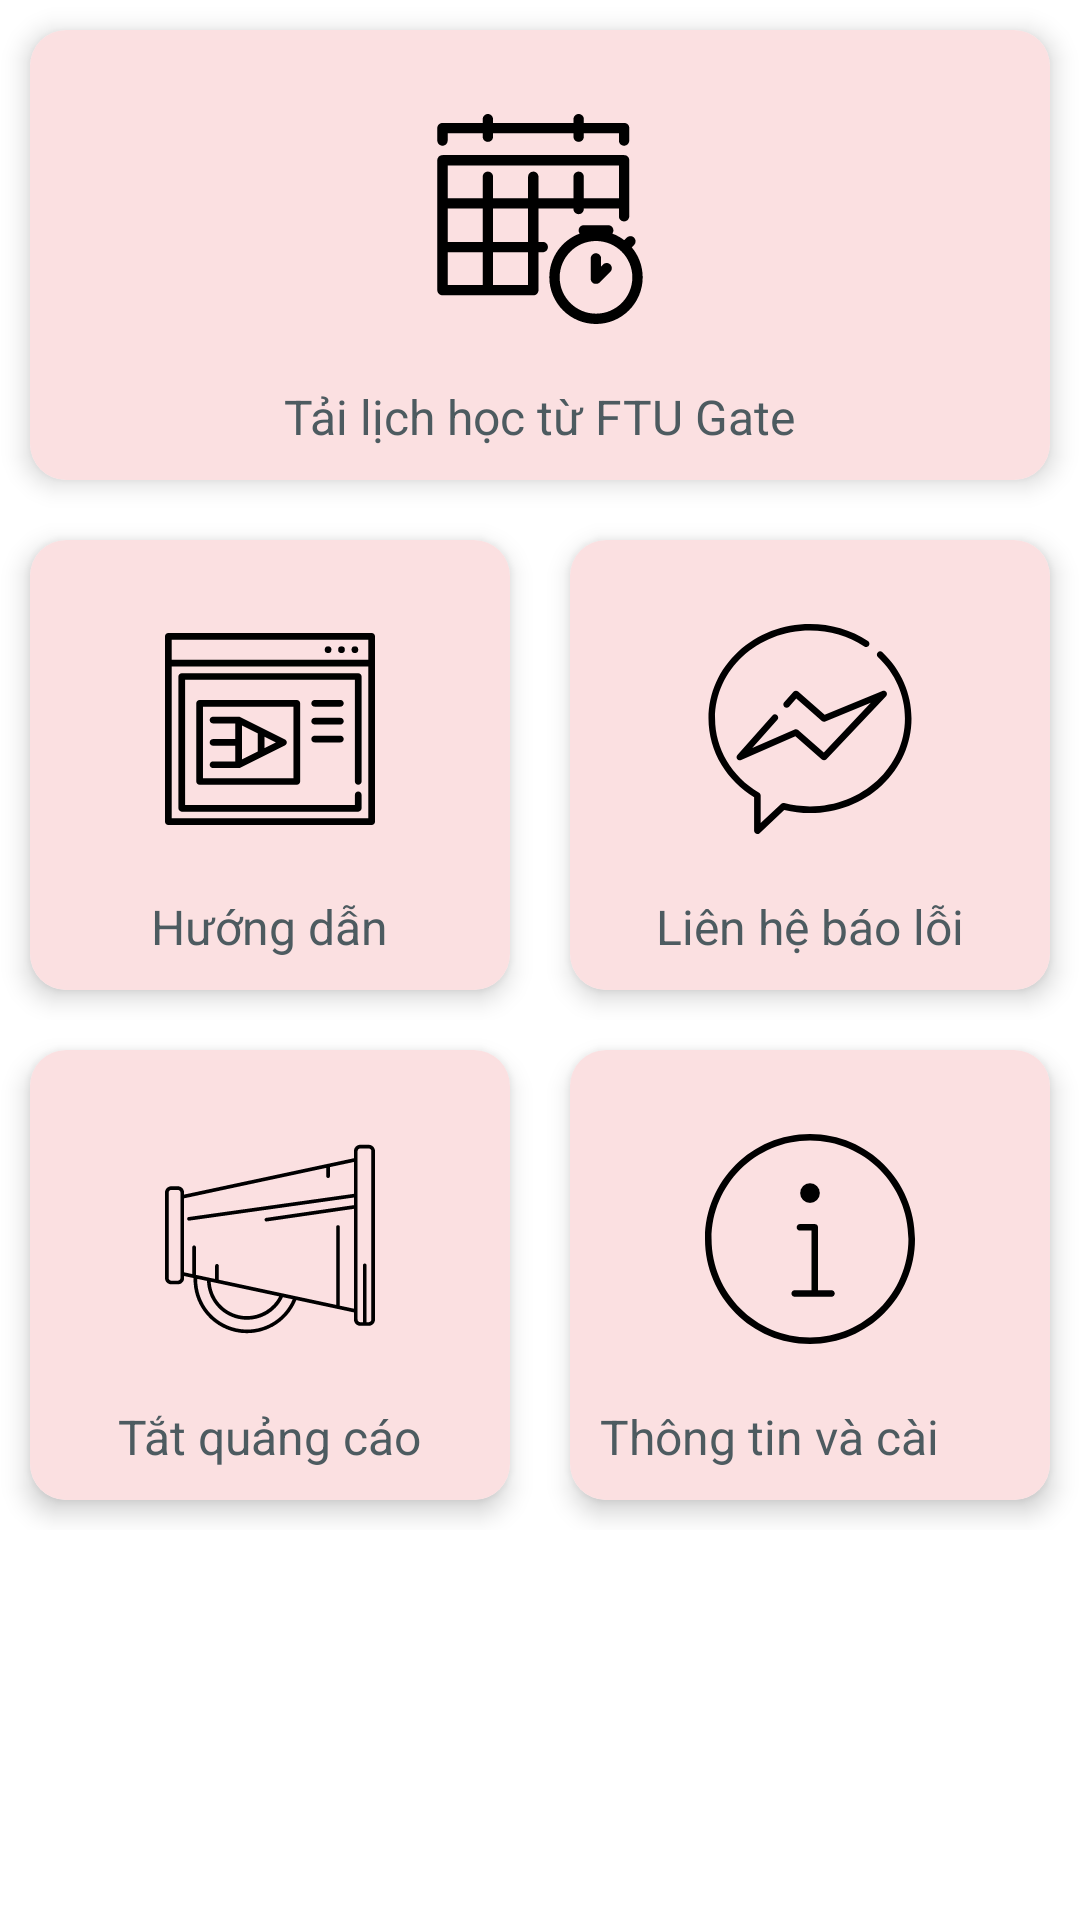

Point at icon controls on the screen. Image size 1080*1920, points as (x=x, y=y).
advertising: (x=270, y=1239)
iconschedule: (x=540, y=219)
tutoria: (x=270, y=729)
